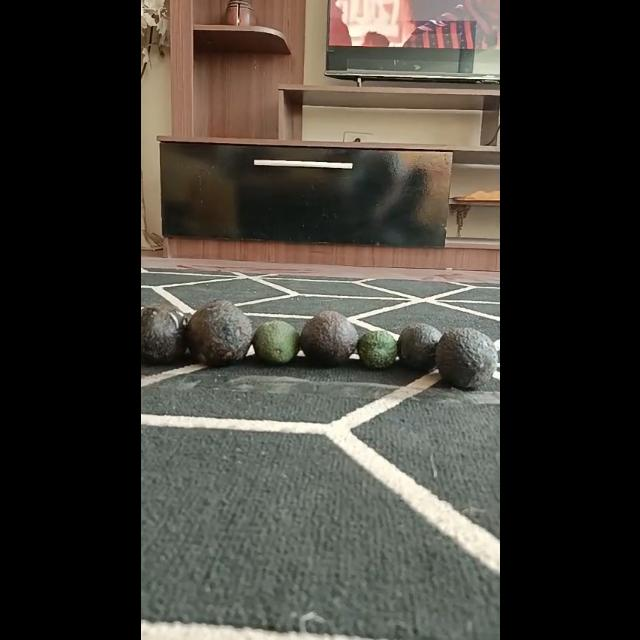Primera: (184, 298, 252, 366), (436, 326, 496, 388), (298, 310, 358, 366), (140, 303, 188, 363)
Segunda: (396, 324, 442, 370), (252, 320, 298, 364)
Tercera: (357, 329, 399, 369)
